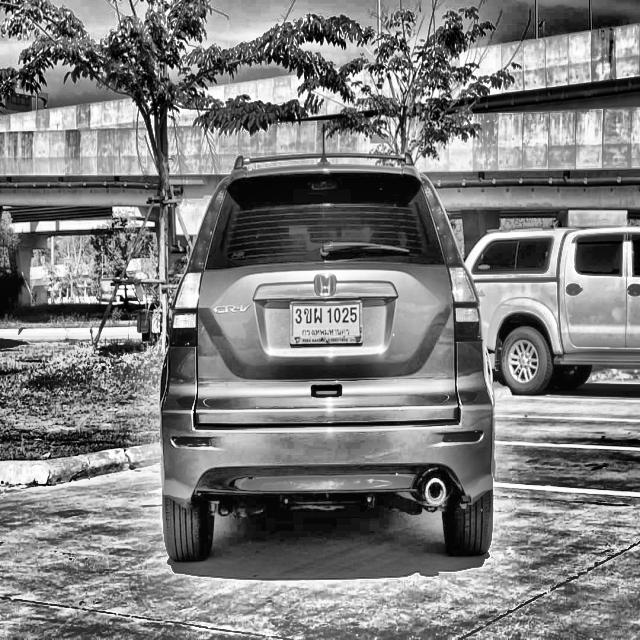license-plate: (287, 298, 367, 352)
